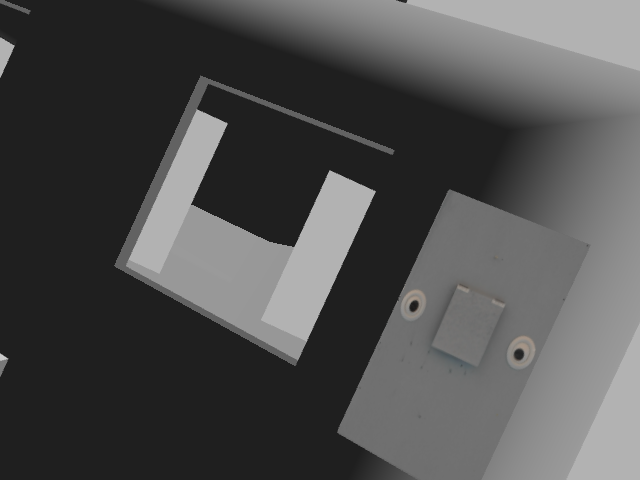facade: (399, 280, 537, 371)
